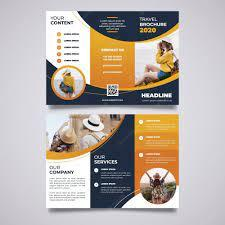paper: (43, 11, 183, 225)
